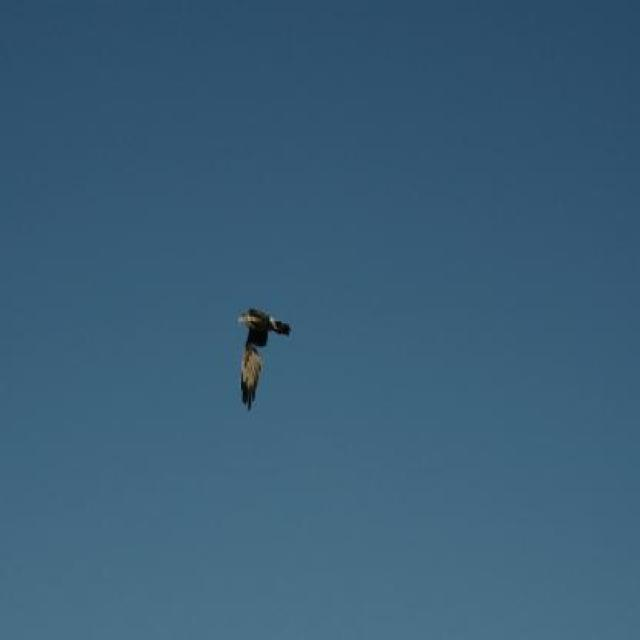bird: (232, 298, 298, 418)
